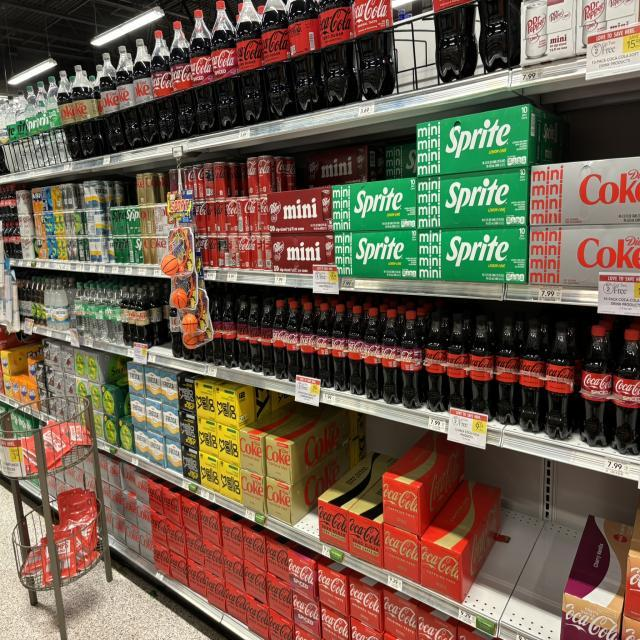Soda: (352, 0, 396, 100), (319, 0, 359, 107), (289, 0, 326, 113), (580, 325, 614, 447), (261, 0, 296, 118), (211, 0, 242, 130), (236, 0, 268, 122), (432, 0, 478, 83), (611, 328, 640, 455), (190, 10, 219, 133), (545, 322, 575, 440), (170, 22, 198, 137), (519, 318, 546, 433), (479, 0, 521, 72), (151, 30, 178, 142), (132, 38, 160, 145), (71, 65, 101, 158), (116, 45, 142, 148), (470, 315, 495, 419), (99, 53, 125, 153), (495, 317, 519, 425), (56, 70, 82, 160), (446, 313, 470, 410), (425, 312, 448, 412), (400, 310, 422, 408), (381, 308, 401, 403), (331, 303, 350, 392), (364, 308, 382, 400), (348, 305, 365, 395), (316, 303, 334, 388), (285, 300, 301, 382), (272, 298, 288, 378), (300, 302, 316, 377), (222, 295, 238, 368), (236, 295, 251, 370), (239, 195, 269, 232), (249, 155, 276, 195), (248, 297, 262, 372), (135, 287, 152, 347), (210, 293, 224, 365), (261, 298, 274, 375), (228, 233, 251, 270), (249, 195, 270, 233), (128, 292, 138, 344), (250, 233, 264, 270), (261, 233, 274, 271), (225, 198, 238, 235)
